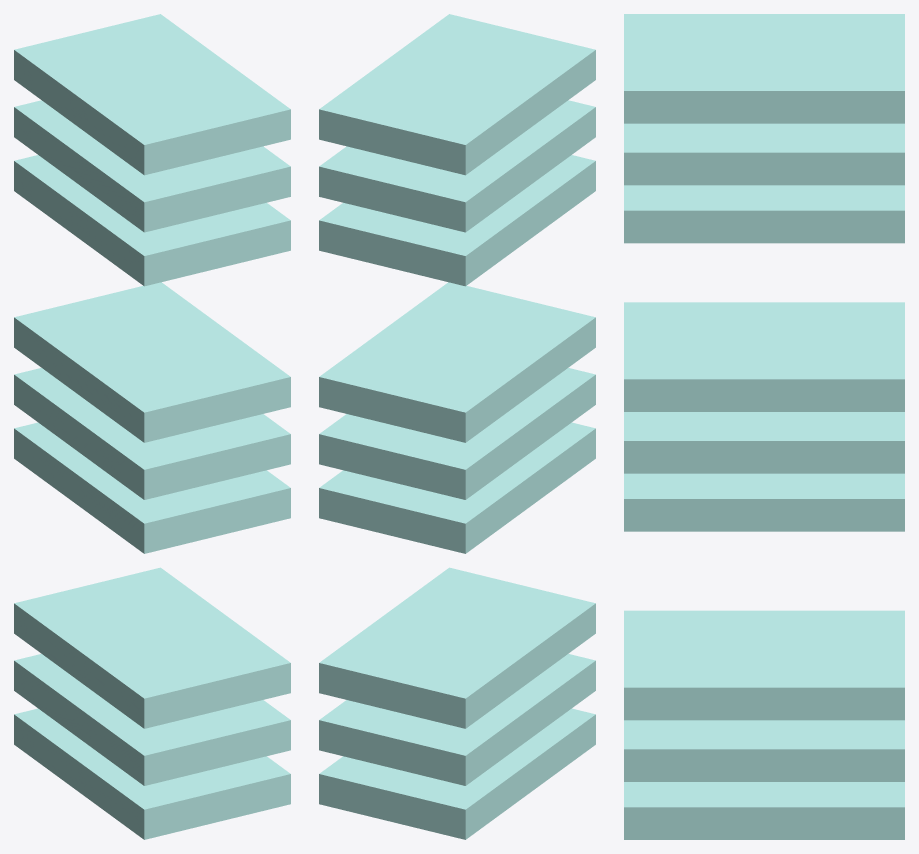
Rendered from Floating_Decor.glb.
The picture shows the model from 3 angles, left to right: view 1: azimuth 30°, elevation 25°; view 2: azimuth 150°, elevation 25°; view 3: azimuth 270°, elevation 25°; orthographic projection. The views are drawn at different scales.
Visible parts, largest first — view 1: tripledecor_01_geo; view 2: tripledecor_01_geo; view 3: tripledecor_01_geo.
Boxes of the visible parts, left/top/right/bottom form: tripledecor_01_geo: left=14, top=14, right=290, bottom=839; tripledecor_01_geo: left=319, top=14, right=595, bottom=839; tripledecor_01_geo: left=624, top=14, right=904, bottom=839.
Size of what is drawn, in the model's own units: 0.4509 by 2.04 by 0.6941.
1 material, 1 textured.
